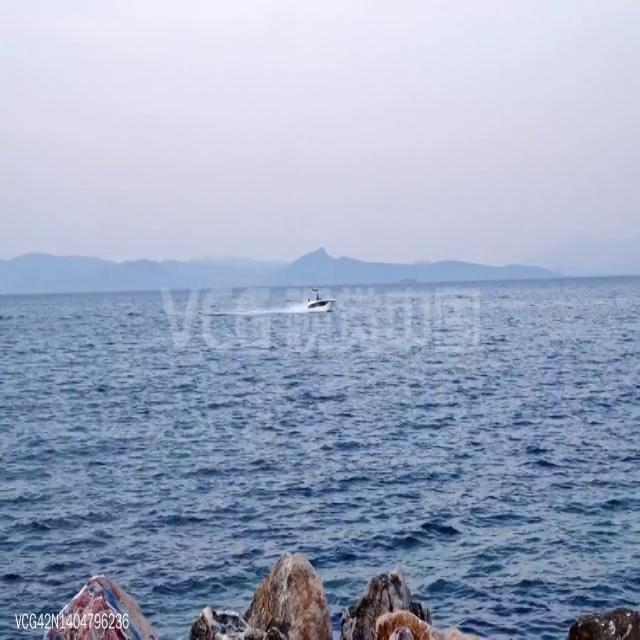houseboat: (308, 285, 336, 315)
